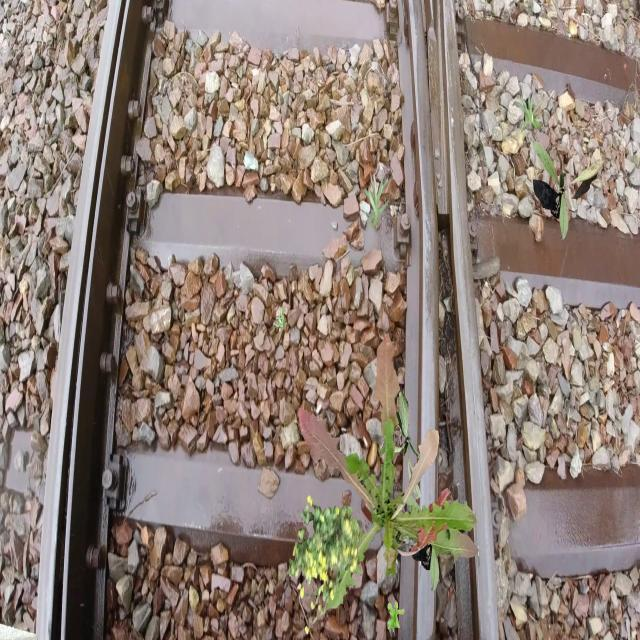Plant: (299, 333, 479, 611), (289, 495, 364, 635), (403, 492, 474, 592), (533, 140, 604, 240), (383, 390, 423, 500), (364, 171, 391, 228), (512, 88, 544, 134), (387, 601, 404, 633), (274, 307, 288, 328)
